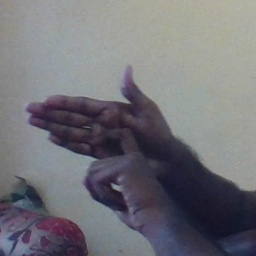R: (29, 63, 180, 208)
